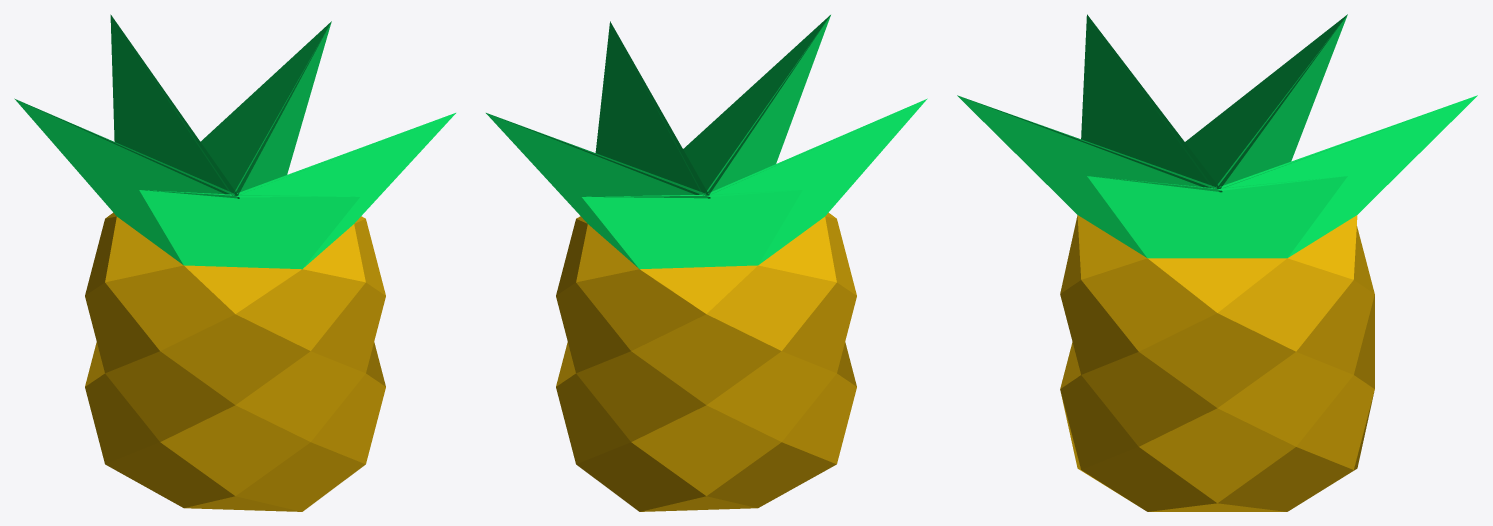
The model's file is piña.glb.
3 renders of one model, left to right at view 1: azimuth 30°, elevation 25°; view 2: azimuth 150°, elevation 25°; view 3: azimuth 270°, elevation 25°, orthographic. The views are drawn at different scales.
Visible parts, largest first — view 1: Piña, Planta; view 2: Piña, Planta; view 3: Piña, Planta.
Boxes of the visible parts, x1,y1,x2,y2 form: Piña: (85, 212, 385, 511); Planta: (14, 14, 455, 269); Piña: (556, 212, 856, 511); Planta: (486, 15, 927, 269); Piña: (1060, 215, 1374, 511); Planta: (957, 14, 1477, 258).
Bounding box in the file's own units: 2.44 × 2.62 × 3.32.
